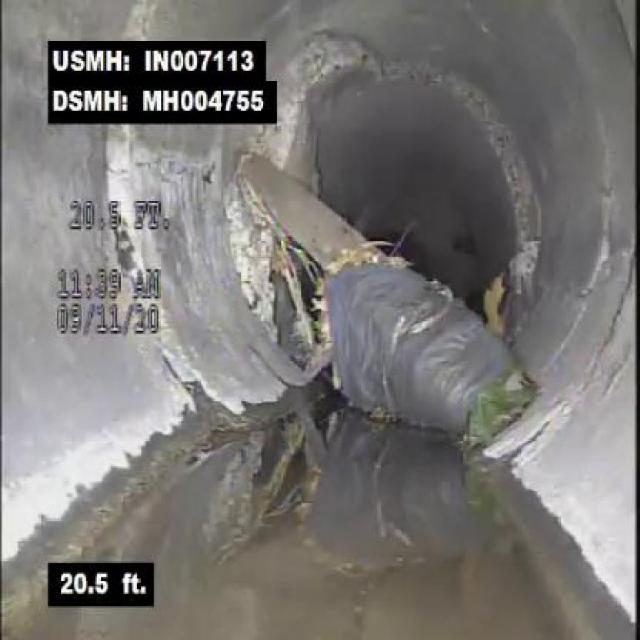Obstacle: (222, 137, 558, 461)
